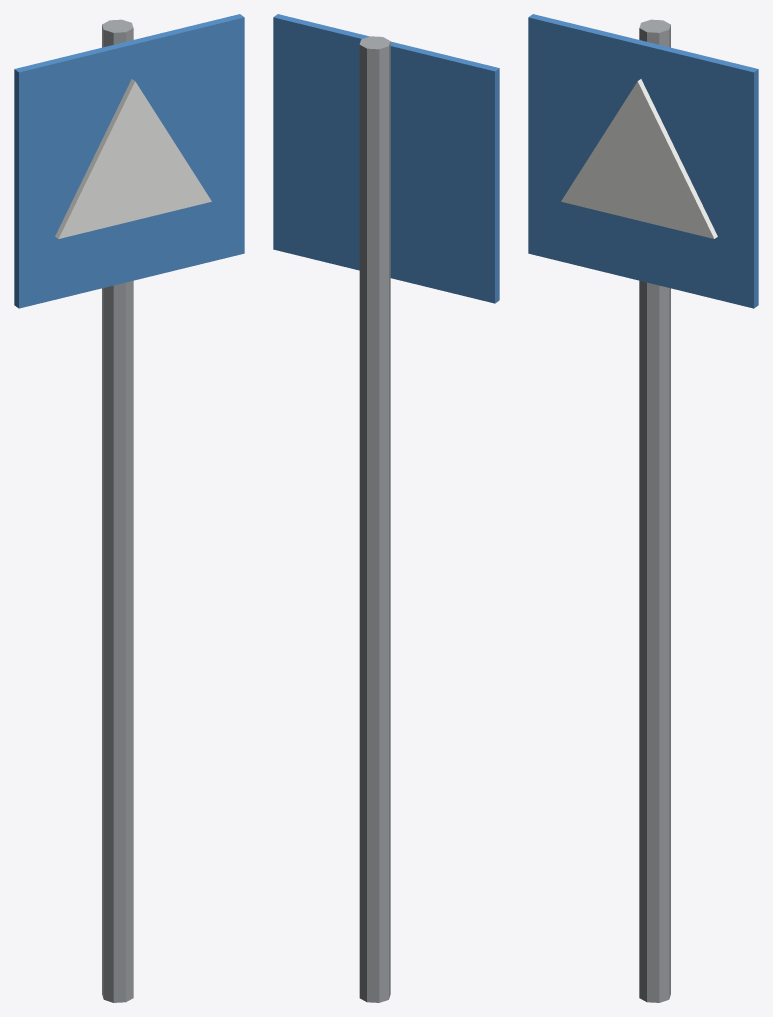
File: sign-crossing.glb
3 views of the same model, side by side, from view 1: azimuth 30°, elevation 25°; view 2: azimuth 150°, elevation 25°; view 3: azimuth 330°, elevation 25° (orthographic).
Parts seen in each view (by area): view 1: sign-crossing; view 2: sign-crossing; view 3: sign-crossing.
Boxes of the visible parts, <box> form: sign-crossing: <box>14,14,244,1002</box>; sign-crossing: <box>273,14,499,1002</box>; sign-crossing: <box>528,14,758,1002</box>.
Bounding box in the file's own units: 0.56 × 2.3 × 0.11.
